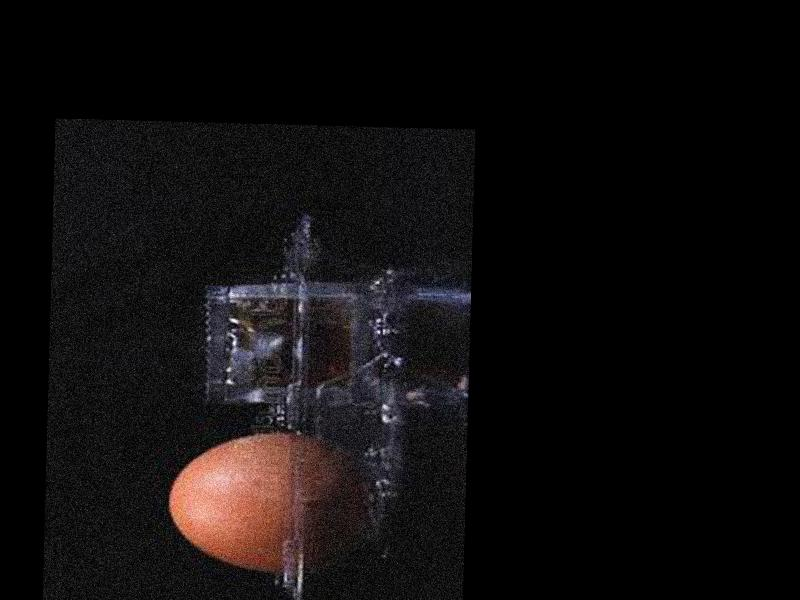Eggs: (167, 431, 377, 577)
